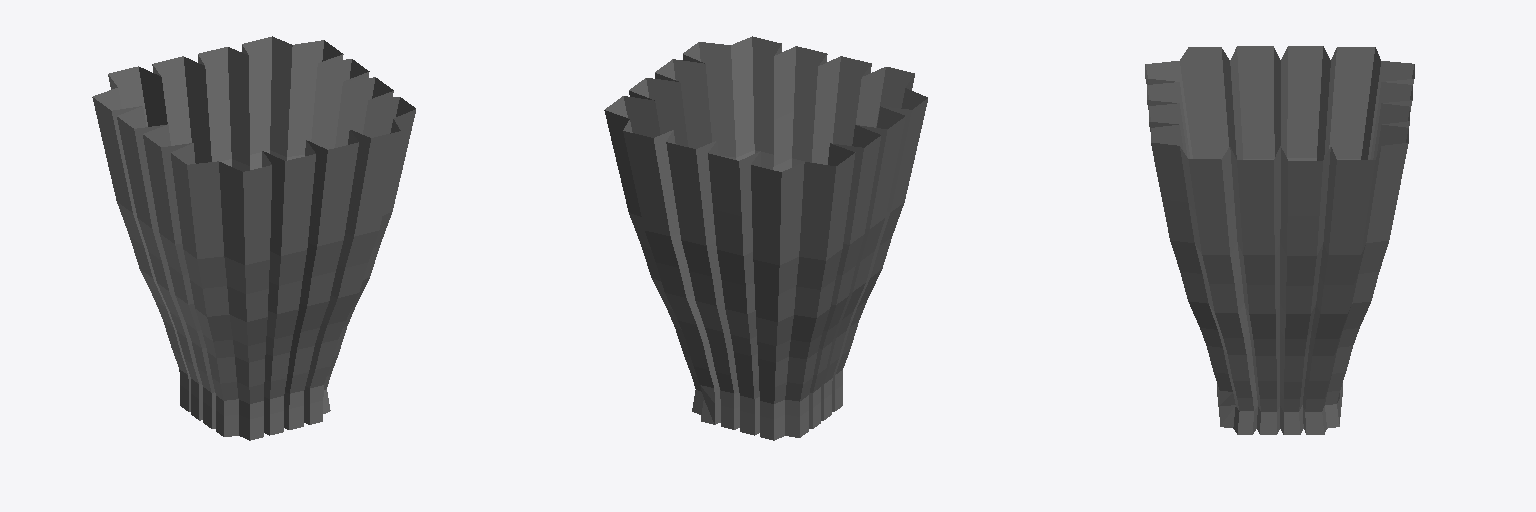
The model's file is Skyscraper_Base_1.obj.
3 renders of one model, left to right at view 1: azimuth 30°, elevation 25°; view 2: azimuth 150°, elevation 25°; view 3: azimuth 270°, elevation 25°, orthographic.
Visible parts, largest first — view 1: pCube37_pCube37; view 2: pCube37_pCube37; view 3: pCube37_pCube37.
Boxes of the visible parts, box(x1,y1,x2,y2) form: pCube37_pCube37: box(92, 36, 415, 440); pCube37_pCube37: box(604, 36, 927, 440); pCube37_pCube37: box(1145, 46, 1414, 434).
Size of the model in its own units: 2.9 by 3.59 by 2.87.